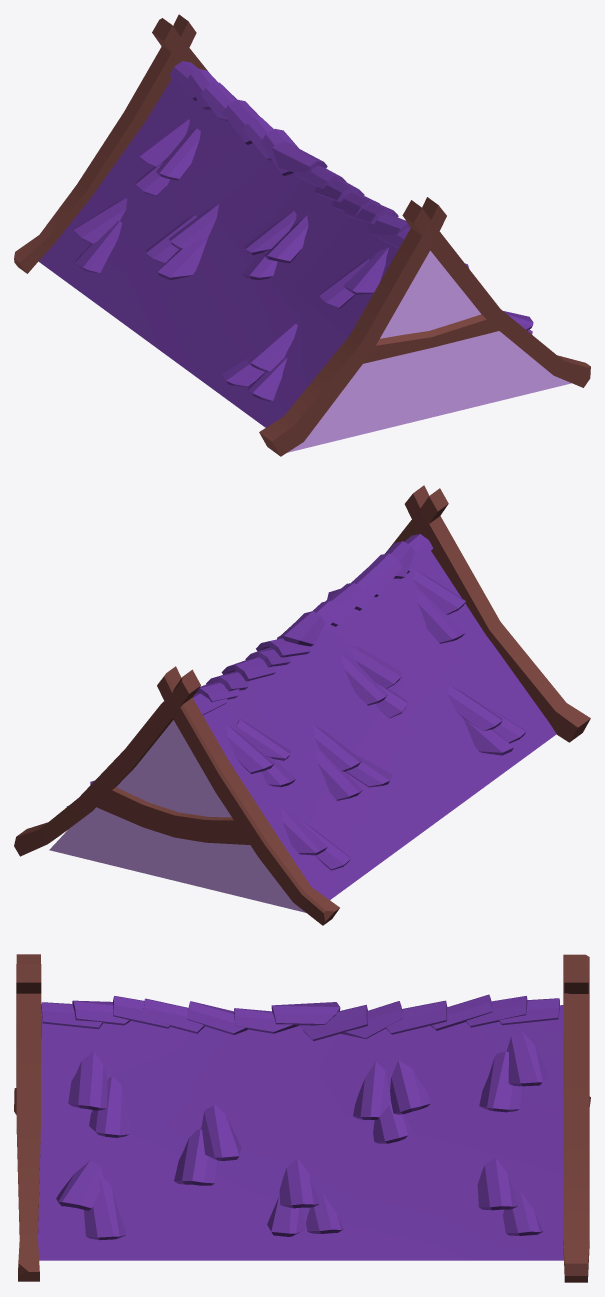
File: BuildingRoof_03.fbx
3 renders of one model, top to bottom at view 1: azimuth 30°, elevation 25°; view 2: azimuth 150°, elevation 25°; view 3: azimuth 270°, elevation 25°, orthographic. The views are drawn at different scales.
Parts seen in each view (by area): view 1: BuildingRoof_03; view 2: BuildingRoof_03; view 3: BuildingRoof_03.
Part boxes in pixels (x1,y1,x2,y2): BuildingRoof_03: [14, 14, 590, 456]; BuildingRoof_03: [14, 485, 590, 925]; BuildingRoof_03: [14, 954, 590, 1282].
Bounding box in the file's own units: 734 × 476 × 1030.
